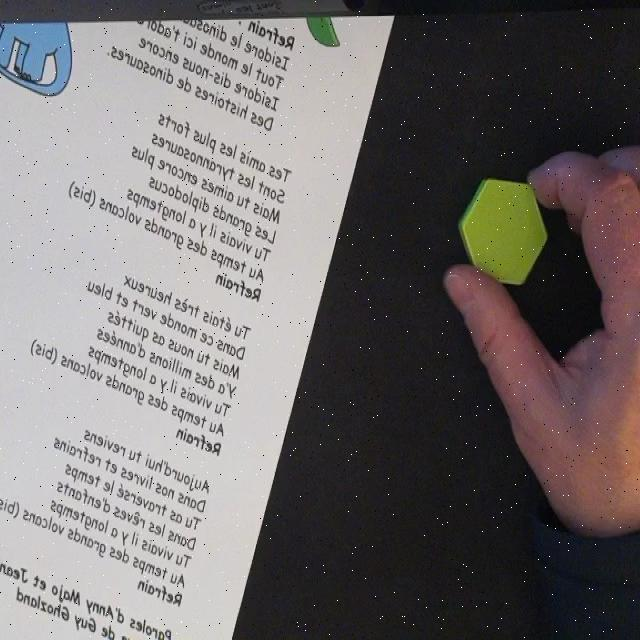hexagon: (458, 178, 549, 290)
